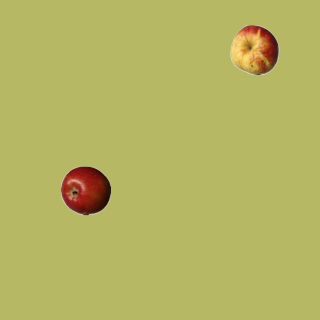Apple Braeburn: (60, 165, 110, 215)
Apple Red Yellow 1: (229, 24, 279, 74)
